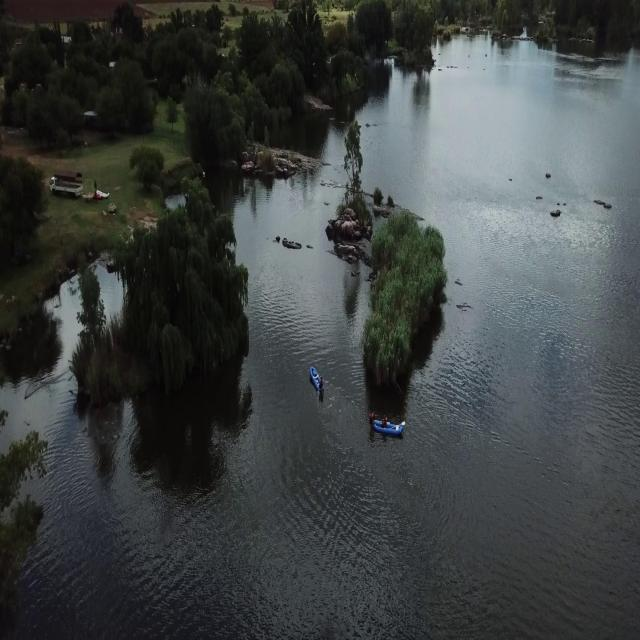kayak: (368, 406, 408, 443), (306, 362, 326, 398)
